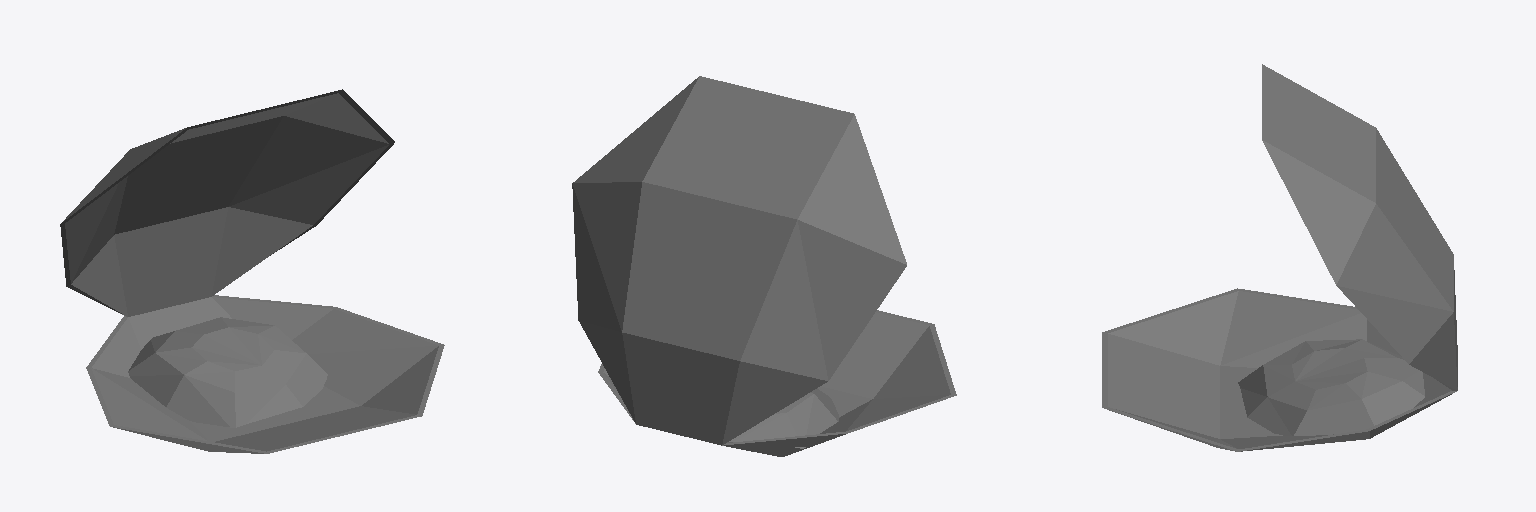
File: Seashell.obj
The picture shows the model from 3 angles: view 1: azimuth 30°, elevation 25°; view 2: azimuth 150°, elevation 25°; view 3: azimuth 270°, elevation 25°; orthographic projection.
Parts seen in each view (by area): view 1: sea_shell; view 2: sea_shell; view 3: sea_shell.
Boxes of the visible parts, <box> form: sea_shell: <box>60,89,444,453</box>; sea_shell: <box>572,76,956,456</box>; sea_shell: <box>1102,64,1457,451</box>.
Bounding box in the file's own units: 25.16 × 22.14 × 23.09.